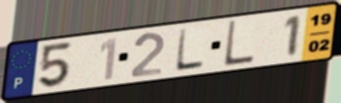1: (98, 36, 119, 82), (282, 14, 303, 57)
2: (129, 31, 167, 79)
5: (38, 39, 75, 90)
L: (222, 19, 256, 69), (172, 27, 207, 73)
